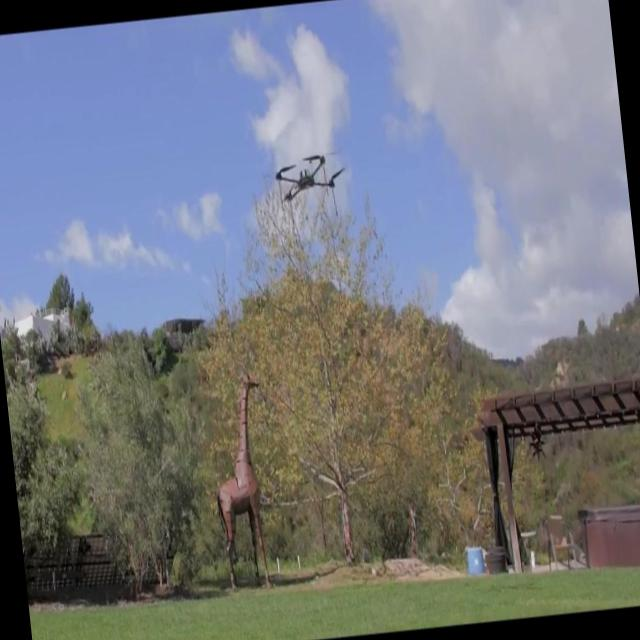drone: (270, 146, 352, 226)
